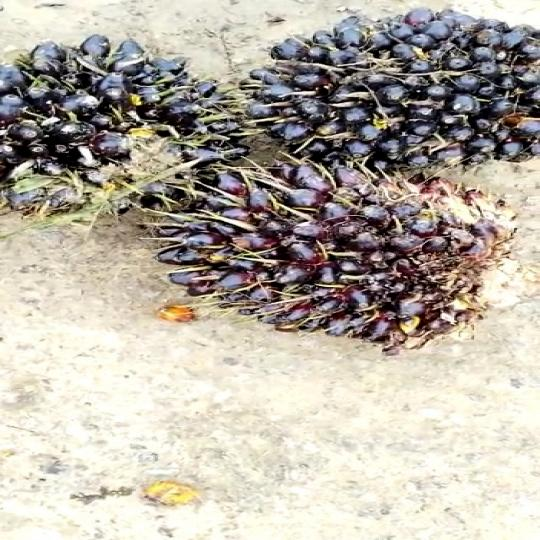mentah: (154, 159, 516, 360), (0, 32, 253, 214), (259, 16, 540, 169)
